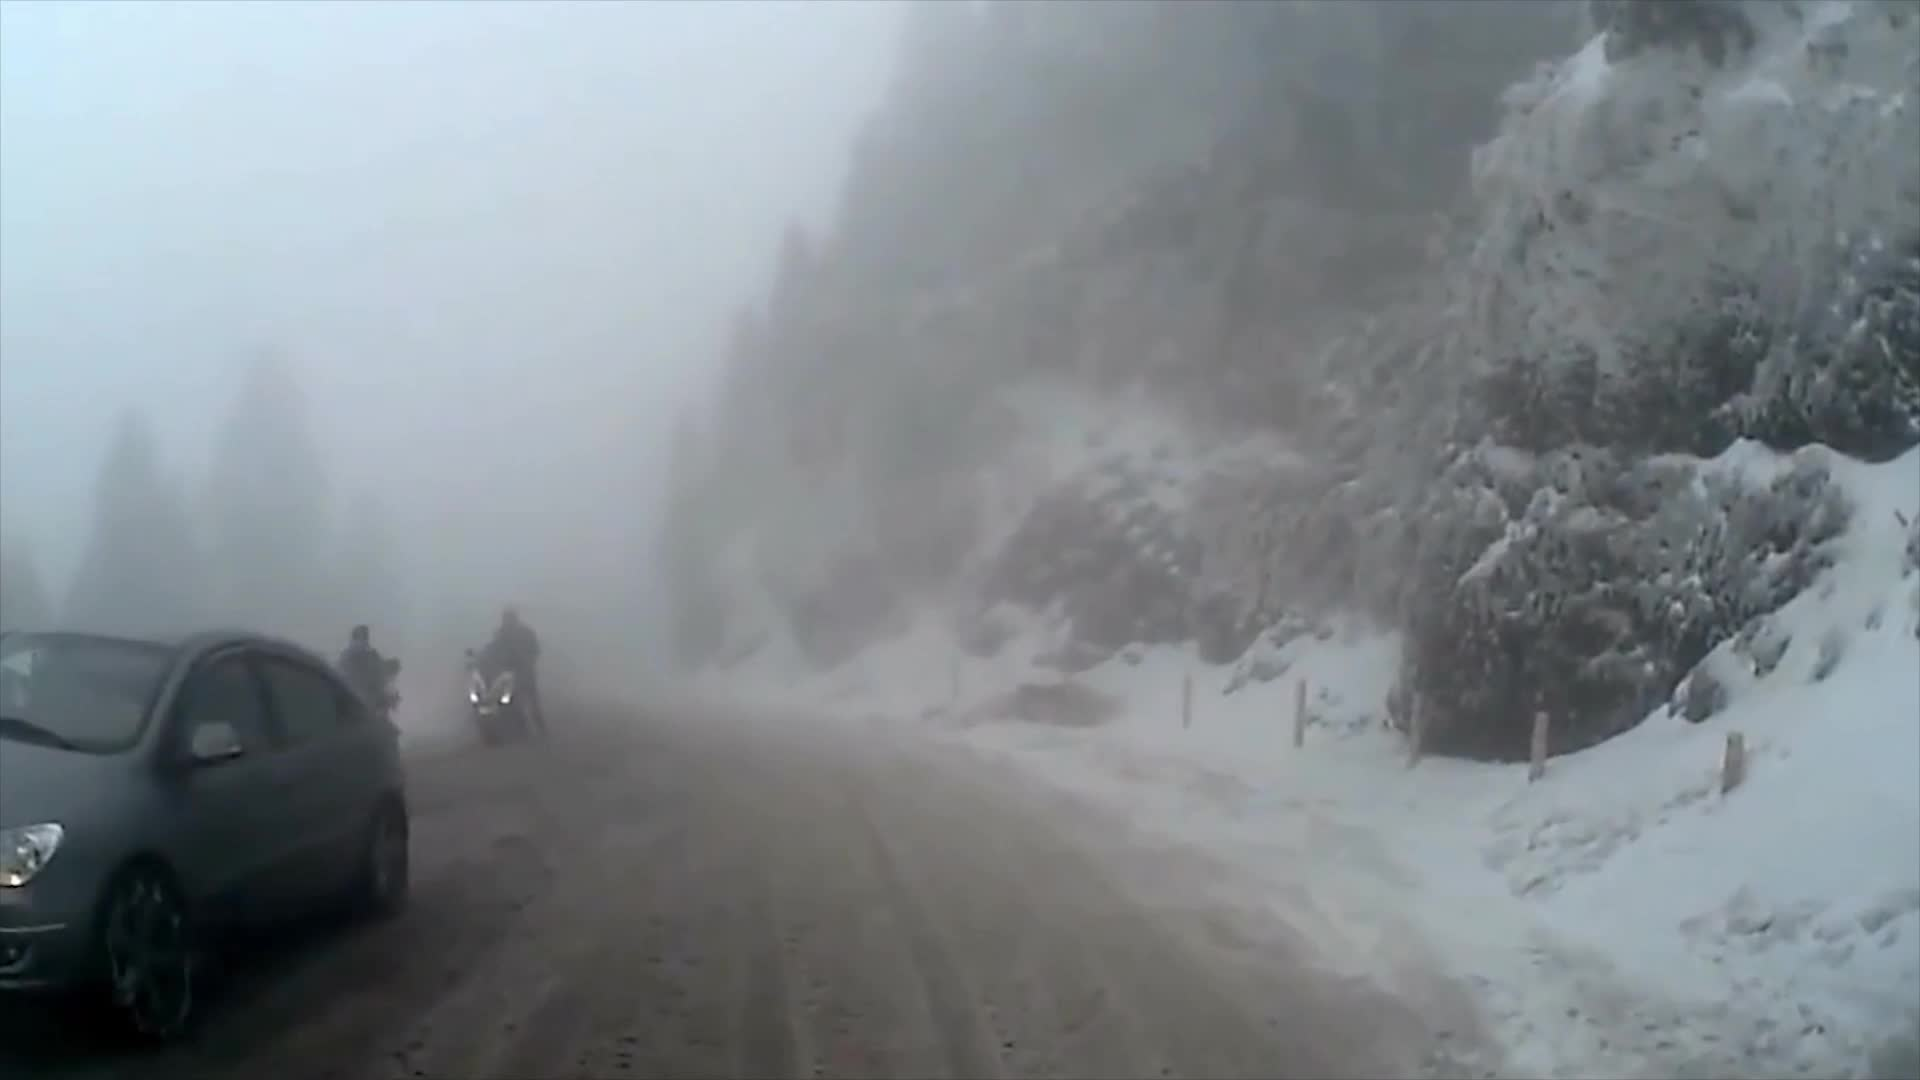pedestrian: (335, 630, 401, 801), (476, 605, 550, 739)
vehicle: (0, 624, 414, 1045)
